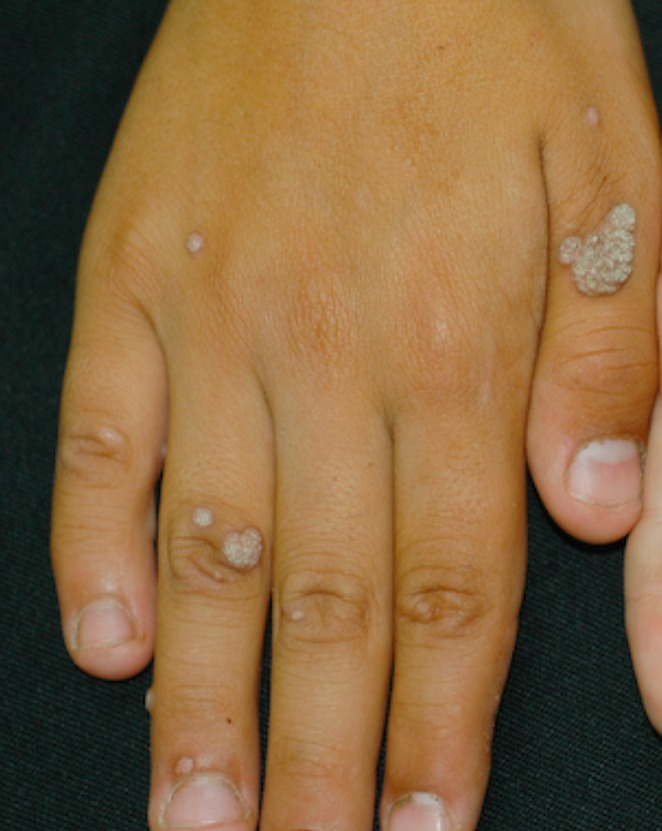Warts: (549, 199, 644, 307), (223, 519, 276, 572), (177, 220, 225, 276), (92, 420, 140, 465), (163, 745, 206, 791), (576, 100, 611, 143), (182, 494, 212, 535)
